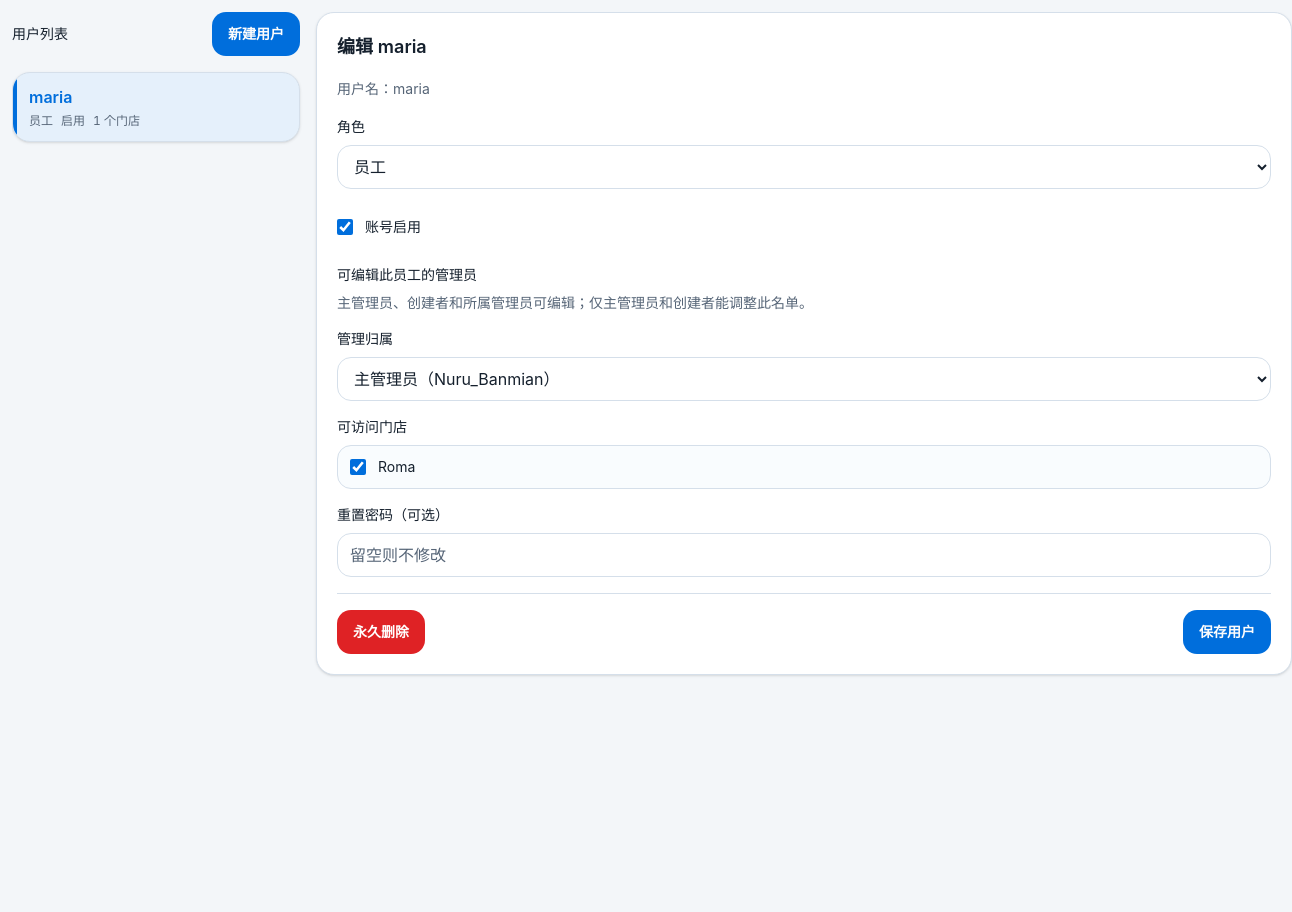
clears an auto-selected user's form and dirty navigation state after a Strict Mode save
Expected: the heading "编辑 maria" is shown, [337,36,427,57]
Step 1. Type "replacement123" into the password field labelled "重置密码（可选）" → coordinates (804, 555), box [337,533,1271,577]
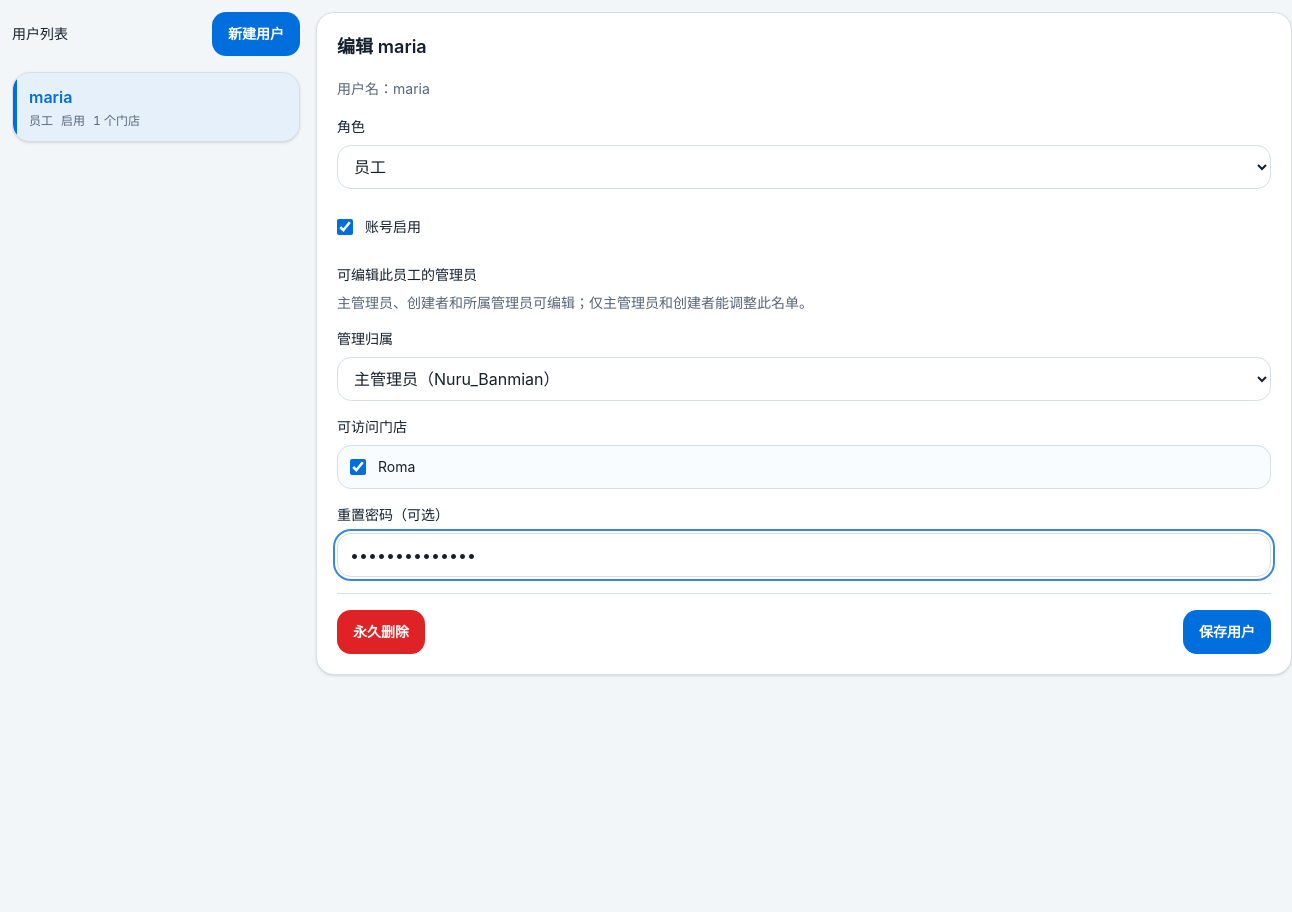
Step 2. Click the button "保存用户" → coordinates (1227, 632), box [1183,610,1271,654]
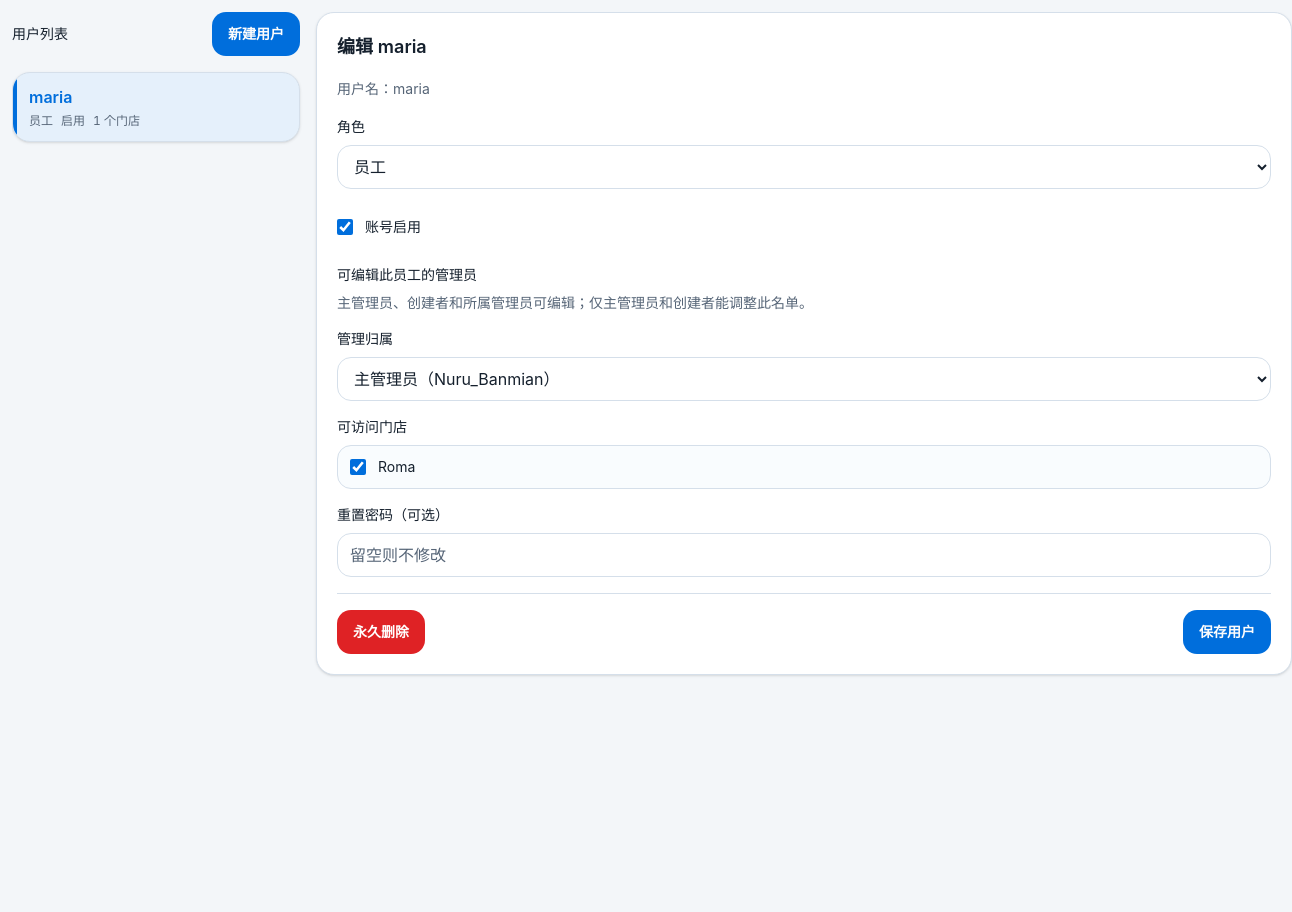
Expected: the password field labelled "重置密码（可选）" is empty, [337,533,1271,577]
Step 3. Click the button "新建用户" → coordinates (256, 34), box [212,12,300,56]
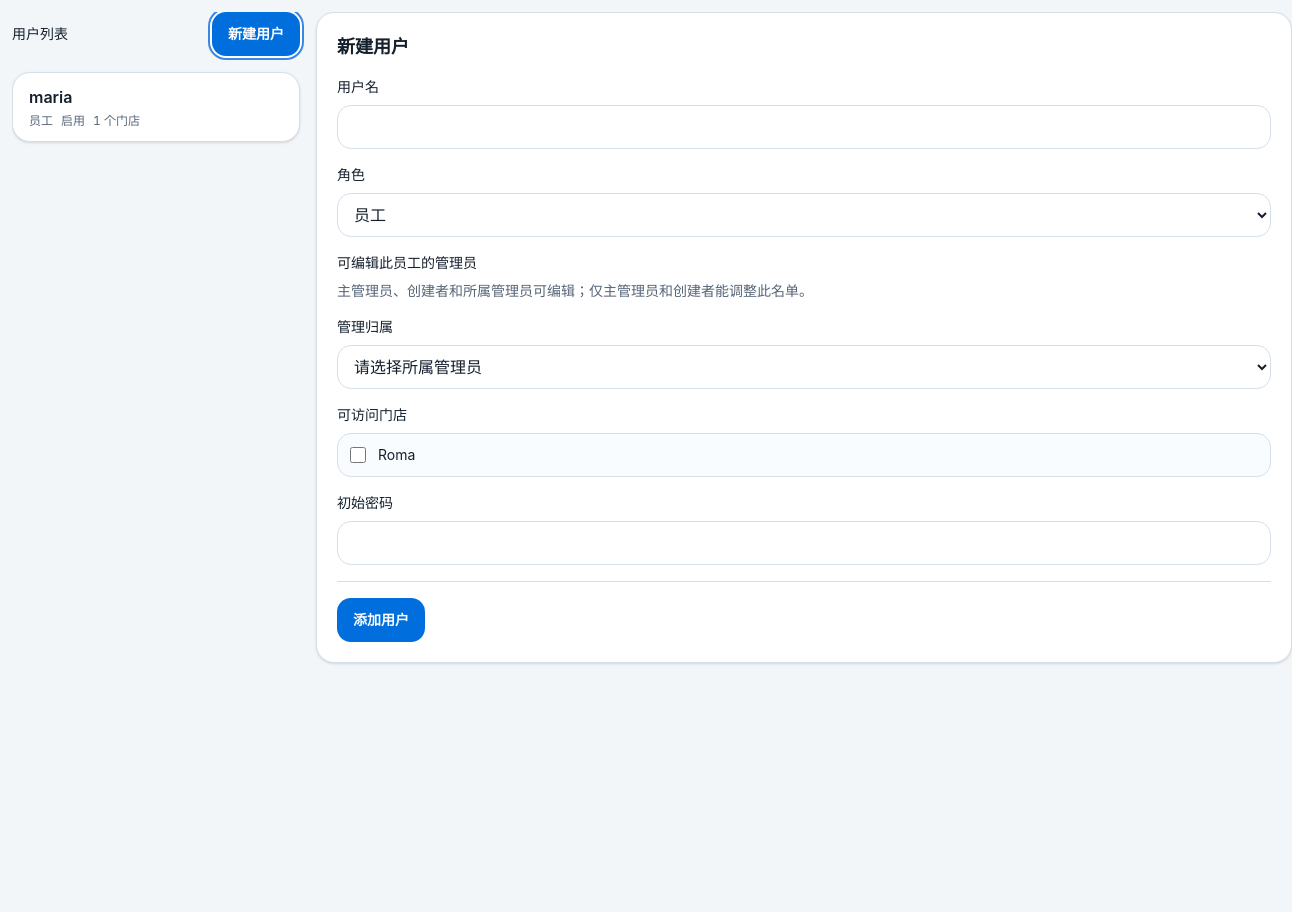
Expected: the heading "新建用户" is shown, [337,36,409,57]
